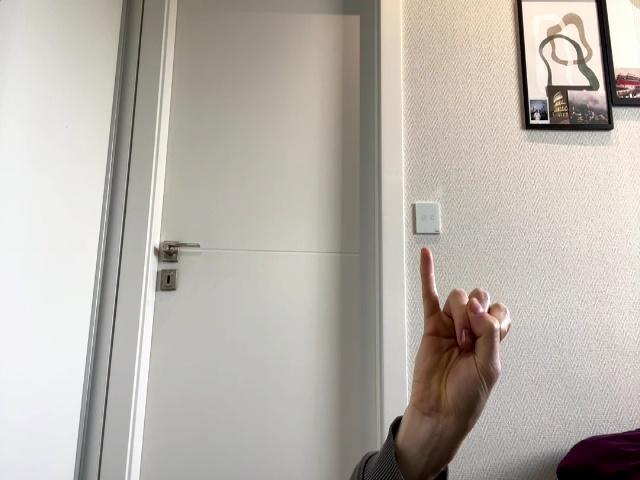I: (413, 247, 512, 434)
